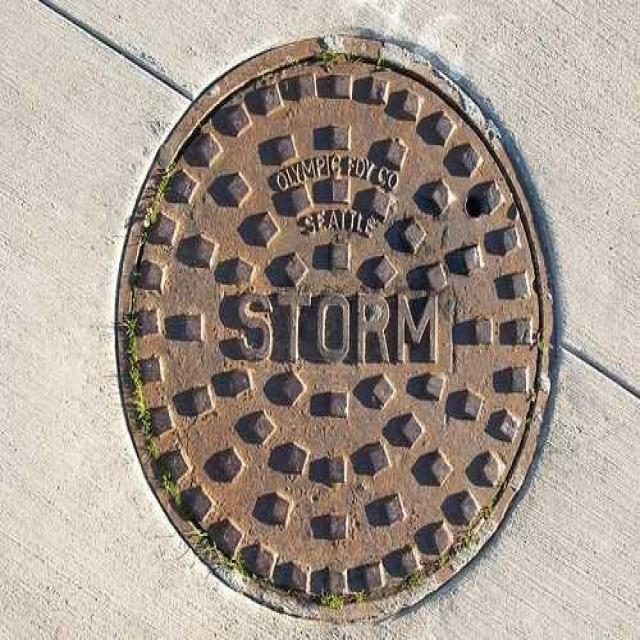manhole: (111, 31, 559, 625)
